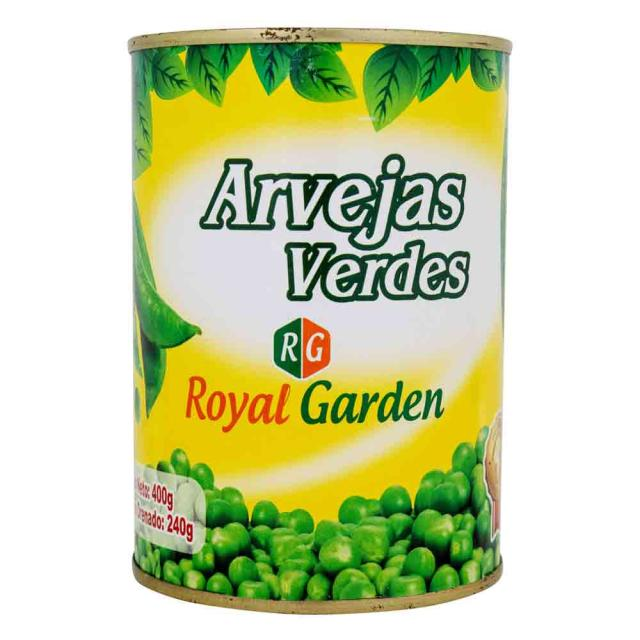arvejas: (205, 482, 498, 599)
